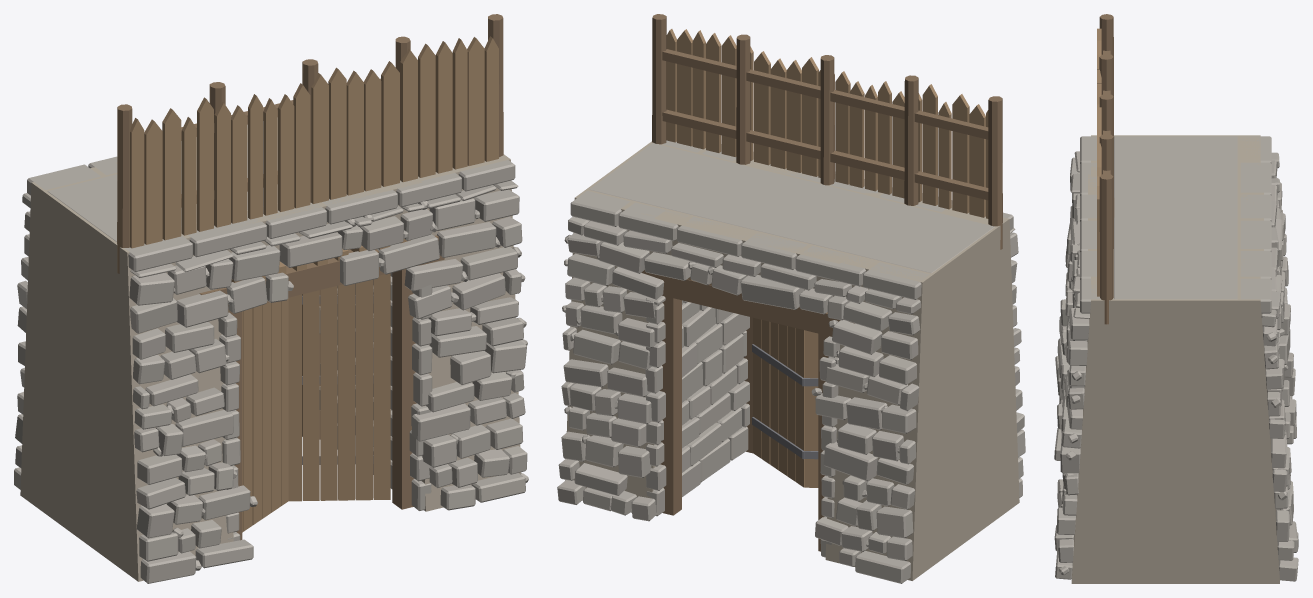
Rendered from W03_城门段.fbx.
3 renders of one model, left to right at view 1: azimuth 30°, elevation 25°; view 2: azimuth 150°, elevation 25°; view 3: azimuth 270°, elevation 25°, orthographic. The views are drawn at different scales.
Parts seen in each view (by area): view 1: W03_毛石, W03_女墙_竖板, W03_墙芯, W03_门扇, W03_压檐石, W03_门洞侧壁, W03_门柱, W03_女墙_立柱, W03_步道, W03_毛石内, W03_过梁; view 2: W03_毛石内, W03_墙芯, W03_女墙_竖板, W03_步道, W03_门洞侧壁, W03_压檐石, W03_女墙_立柱, W03_门扇, W03_女墙_横档, W03_门柱, W03_过梁, W03_毛石 (+1 smaller); view 3: W03_墙芯, W03_步道, W03_毛石内, W03_毛石, W03_压檐石, W03_女墙_立柱, W03_女墙_竖板.
Part boxes in pixels (x1,y1,x2,y2): W03_毛石: (129, 180, 528, 583); W03_女墙_竖板: (130, 36, 498, 248); W03_墙芯: (20, 121, 521, 581); W03_门扇: (242, 273, 390, 532); W03_压檐石: (27, 117, 515, 271); W03_门洞侧壁: (218, 273, 432, 541); W03_门柱: (228, 269, 416, 540); W03_女墙_立柱: (117, 14, 503, 273); W03_步道: (47, 135, 277, 241); W03_毛石内: (14, 193, 30, 489); W03_过梁: (199, 235, 444, 312); W03_毛石内: (557, 216, 920, 583); W03_墙芯: (565, 141, 1019, 580); W03_女墙_竖板: (666, 29, 988, 218); W03_步道: (589, 143, 994, 273); W03_门洞侧壁: (645, 295, 839, 557); W03_压檐石: (570, 140, 1013, 299); W03_女墙_立柱: (652, 14, 1002, 249); W03_门扇: (753, 317, 818, 487); W03_女墙_横档: (662, 49, 988, 200); W03_门柱: (660, 295, 828, 551); W03_过梁: (641, 270, 854, 336); W03_毛石: (1010, 228, 1025, 497); W03_墙芯: (1071, 135, 1279, 583); W03_步道: (1114, 136, 1237, 299); W03_毛石内: (1261, 152, 1298, 581); W03_毛石: (1054, 151, 1089, 579); W03_压檐石: (1080, 136, 1271, 313); W03_女墙_立柱: (1099, 14, 1114, 324); W03_女墙_竖板: (1097, 28, 1101, 296).
Bounding box in the file's own units: 610 × 685 × 375.
